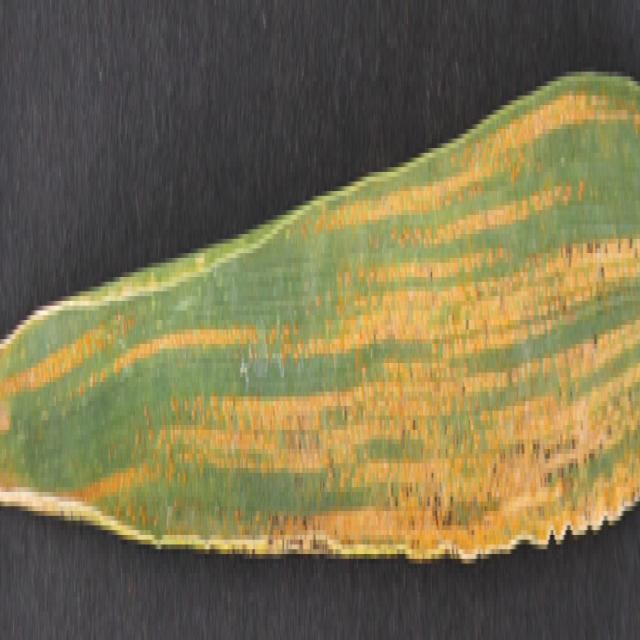leaf rust: (1, 86, 640, 540)
